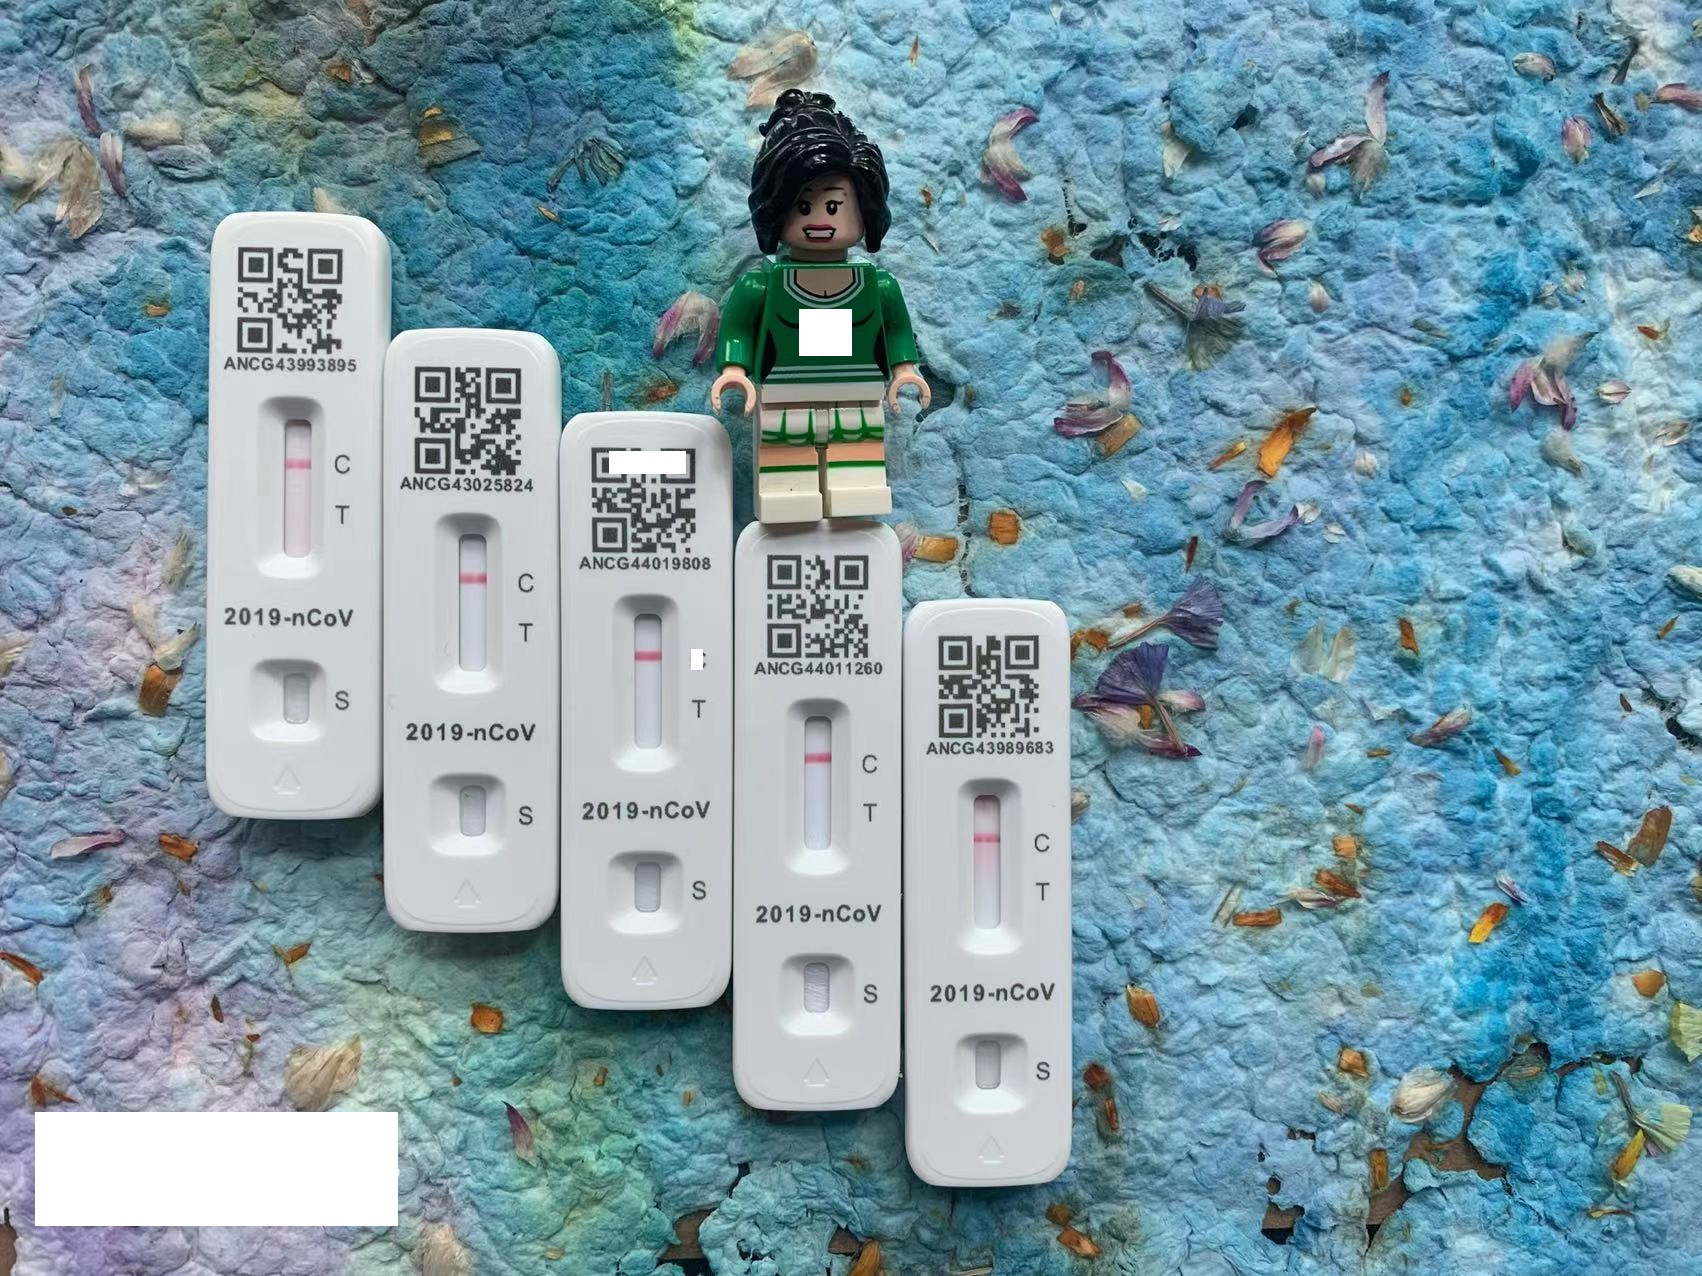negative: (434, 509, 504, 689), (256, 395, 326, 574), (608, 591, 678, 768), (784, 698, 852, 878), (956, 779, 1021, 956)
